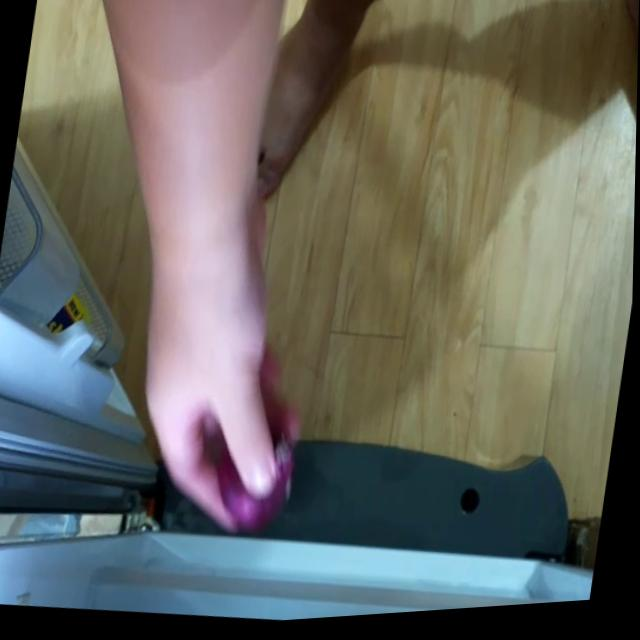onion: (210, 413, 305, 541)
